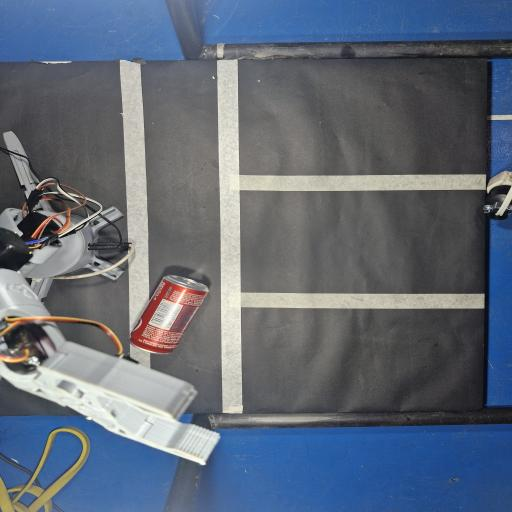lata: (130, 275, 209, 354)
